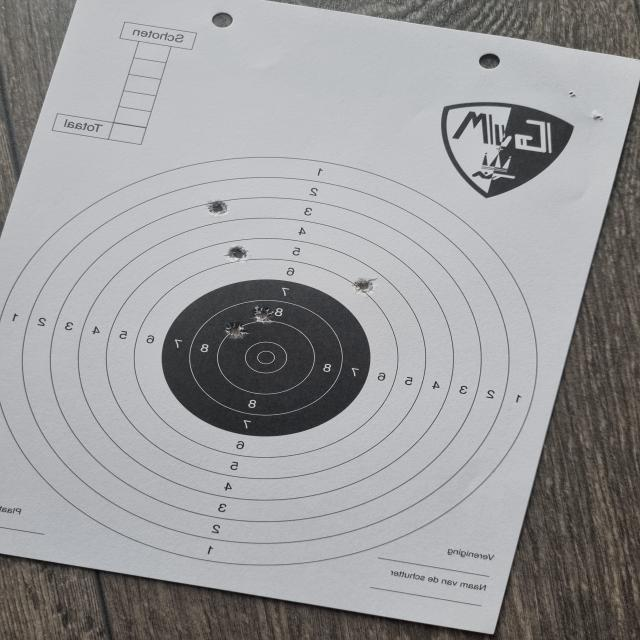3: (206, 201, 231, 214)
5: (224, 246, 247, 260)
6: (352, 278, 377, 294)
9: (224, 322, 250, 338), (250, 306, 274, 323)
Target: (0, 156, 542, 568)
black_contour: (160, 278, 370, 433)
